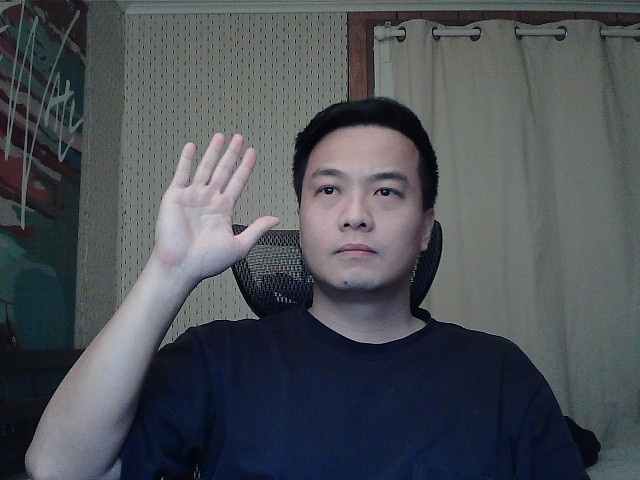Hello: (149, 122, 288, 288)
